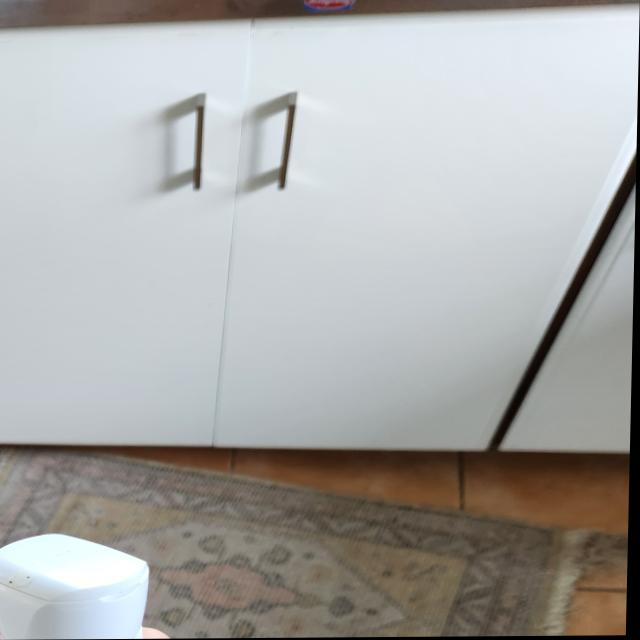black pepper: (0, 528, 158, 640)
